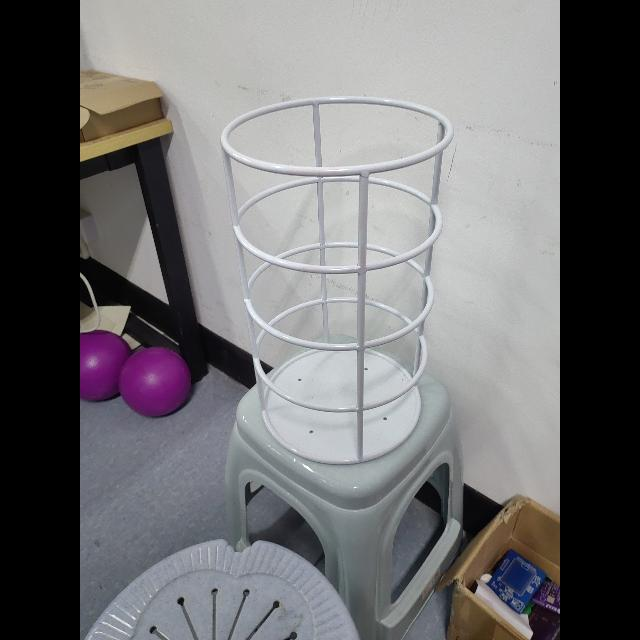S: (217, 93, 457, 470)
